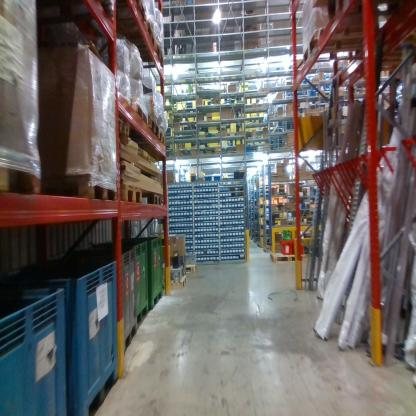pallet: (298, 27, 397, 70), (39, 165, 123, 206), (2, 149, 59, 197), (107, 18, 161, 50), (116, 40, 167, 68), (126, 81, 155, 128), (127, 122, 171, 151), (101, 2, 152, 25), (119, 178, 147, 206), (268, 248, 307, 266), (110, 111, 133, 134), (165, 273, 189, 295), (146, 188, 163, 209), (183, 258, 199, 278), (150, 117, 161, 137)
